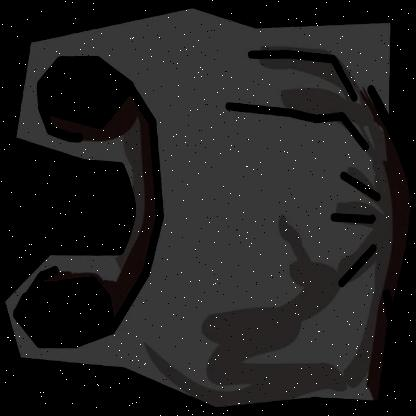Others: (5, 6, 413, 410)
